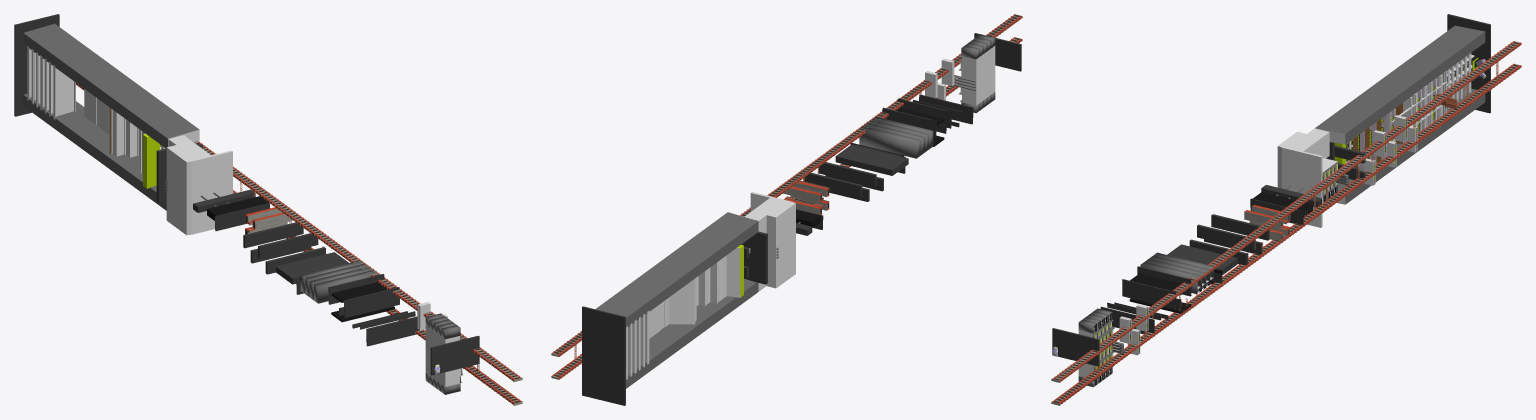
Rendered from The levelbkup bASE  HDB only export.fbx.
3 renders of one model, left to right at view 1: azimuth 30°, elevation 25°; view 2: azimuth 150°, elevation 25°; view 3: azimuth 330°, elevation 25°, orthographic. The views are drawn at different scales.
Parts seen in each view (by area): view 1: Cube.029, Cube.007, wALL tERRACE.001, Fence.026, Cube.006, Cube.031, rOAD.005, rOAD.003, Cube.064, Beam, beam.001, Fence.038 (+11 smaller); view 2: Cube.029, rOAD.005, Cube.007, wALL tERRACE.001, Cube.006, Cube.031, Fence.038, Cube.064, Fence.026, Fence.029, rOAD.006, rOAD.003 (+6 smaller); view 3: wALL tERRACE.001, Cube.029, Cube.007, Cube.006, Cube.031, rOAD.005, rOAD.003, Beam, Cube.064, Cube.099, Cube.009, Fence.026 (+6 smaller).
Boxes of the visible parts, x1,y1,x2,y2 form: Cube.029: (23, 23, 199, 210); Cube.007: (166, 135, 232, 235); wALL tERRACE.001: (76, 83, 522, 405); Fence.026: (27, 45, 75, 120); Cube.006: (425, 313, 462, 394); Cube.031: (300, 260, 376, 303); rOAD.005: (14, 14, 59, 116); rOAD.003: (430, 335, 479, 375); Cube.064: (276, 252, 348, 284); Beam: (344, 287, 399, 317); beam.001: (366, 316, 419, 346); Fence.038: (140, 130, 160, 188); Cube.029: (595, 212, 758, 388); rOAD.005: (582, 306, 625, 405); Cube.007: (744, 192, 800, 291); wALL tERRACE.001: (551, 14, 1022, 379); Cube.006: (958, 34, 995, 113); Cube.031: (859, 117, 933, 158); Fence.038: (710, 245, 743, 303); Cube.064: (835, 144, 908, 175); Fence.026: (626, 310, 649, 379); Fence.029: (664, 278, 695, 327); rOAD.006: (741, 231, 767, 284); rOAD.003: (974, 33, 1021, 71); wALL tERRACE.001: (1051, 41, 1521, 405); Cube.029: (1315, 25, 1485, 204); Cube.007: (1276, 128, 1329, 227); Cube.006: (1078, 308, 1115, 387); Cube.031: (1140, 252, 1214, 294); rOAD.005: (1447, 14, 1490, 113); rOAD.003: (1052, 328, 1099, 366); Beam: (1122, 279, 1176, 309); Cube.064: (1167, 244, 1237, 275); Cube.099: (1197, 224, 1255, 250); Cube.009: (1211, 214, 1269, 240); Fence.026: (1447, 53, 1474, 108).
Size of the model in its own units: 3246 by 4660 by 44216.
26 materials, 2 textured.
